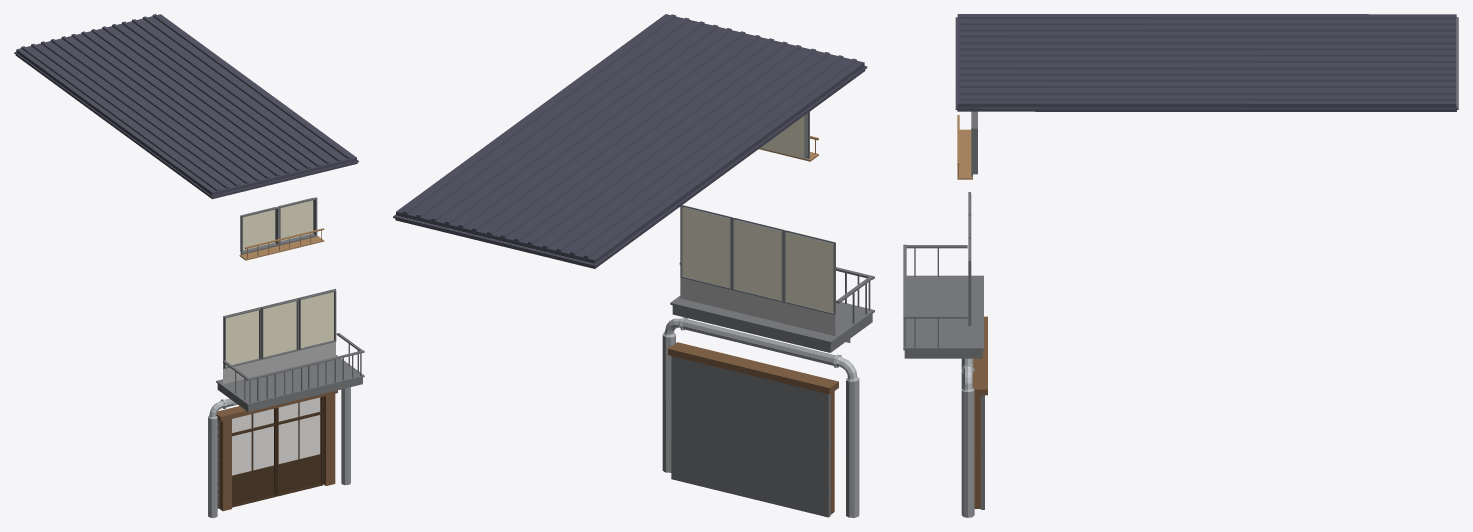
File: building4.fbx
3 views of the same model, side by side, from view 1: azimuth 30°, elevation 25°; view 2: azimuth 150°, elevation 25°; view 3: azimuth 270°, elevation 25° (orthographic). The views are drawn at different scales.
Visible parts, largest first — view 1: Object026; view 2: Object026; view 3: Object026.
Part boxes in pixels (box(x1,y1,x2,y2)): Object026: box(14, 14, 364, 517); Object026: box(393, 14, 874, 517); Object026: box(903, 14, 1458, 517).
Size of the model in its own units: 487 by 1039 by 1252.
